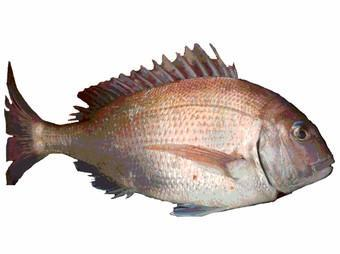fish: (5, 42, 335, 217)
